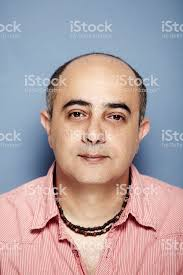middle_eastern_male: (59, 57, 143, 187)
